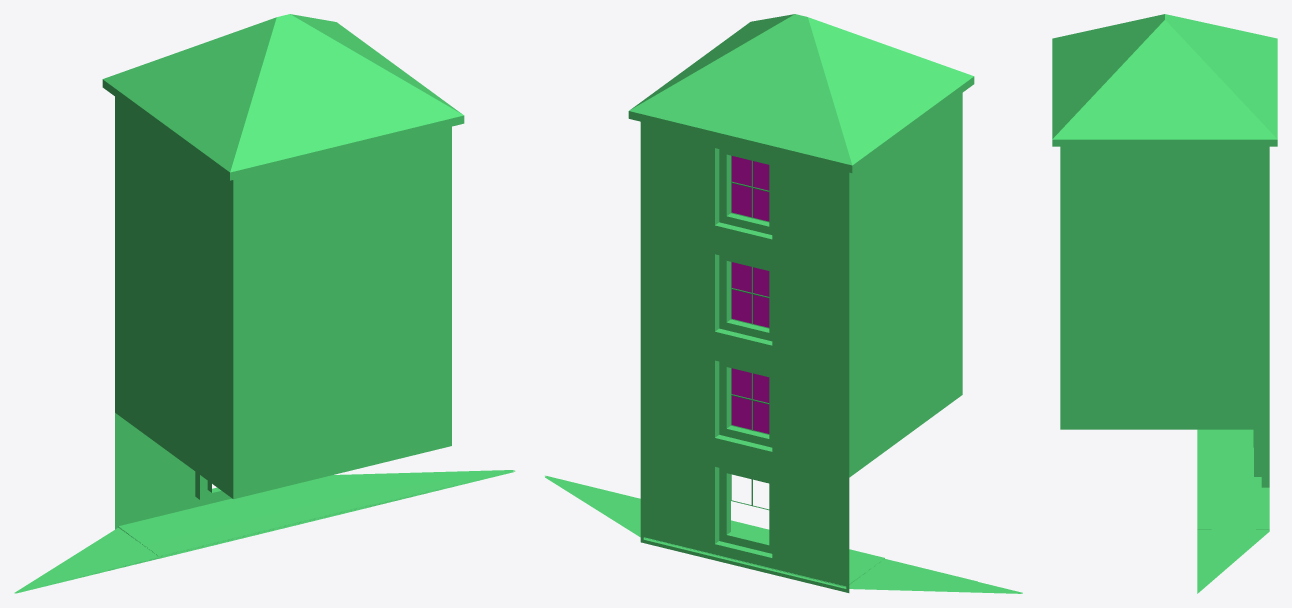
The model's file is jjj.fbx.
3 renders of one model, left to right at view 1: azimuth 30°, elevation 25°; view 2: azimuth 150°, elevation 25°; view 3: azimuth 270°, elevation 25°, orthographic. The views are drawn at different scales.
Visible parts, largest first — view 1: building_003; view 2: building_003; view 3: building_003.
Part boxes in pixels (box(x1,y1,x2,y2)): building_003: box(14, 14, 515, 593); building_003: box(545, 14, 1022, 593); building_003: box(1052, 14, 1277, 593).
Bounding box in the file's own units: 6419 × 6540 × 2829.
